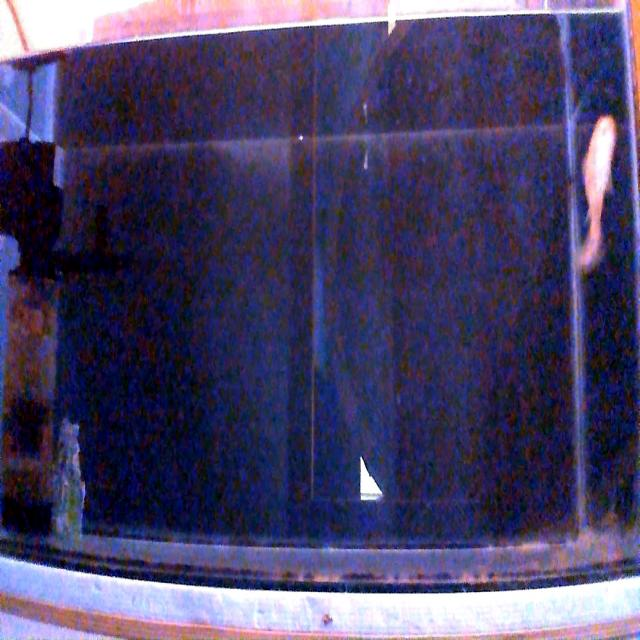fish: (578, 116, 617, 272)
